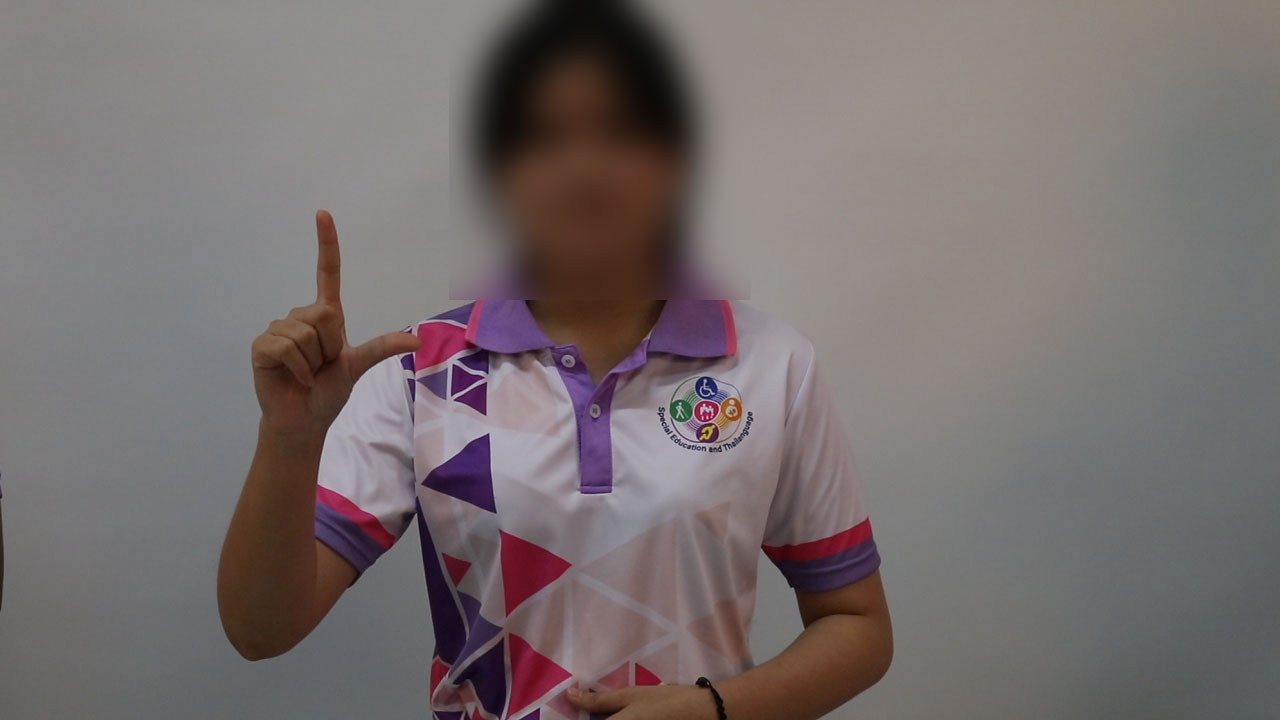lor: (238, 201, 435, 451)
